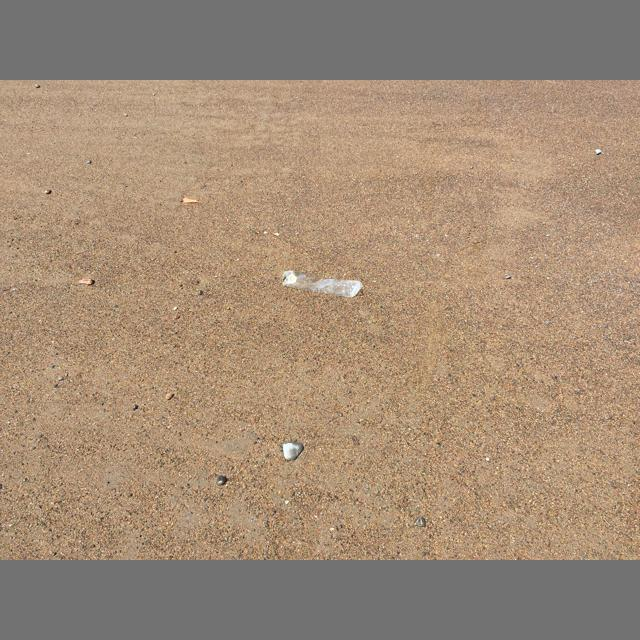litter: (282, 271, 364, 297)
